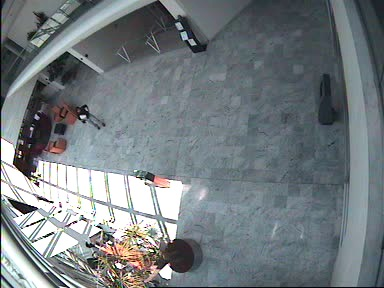person: (69, 106, 104, 128)
